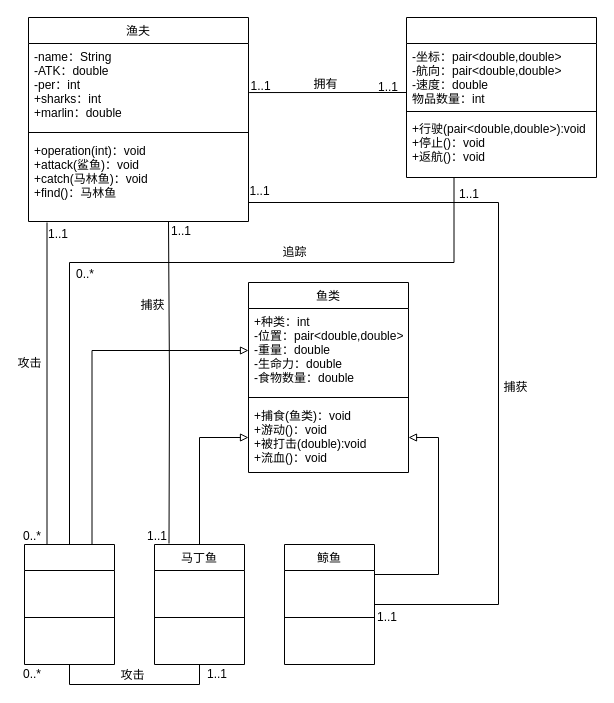
Some shapes in this 614 by 703 pixel diagram are drawn without their labels. Here are the shapes that lost their labels. From the top down, the box of each, then its label:
(406, 16, 596, 178): 小船
(24, 544, 114, 664): 鲨鱼
